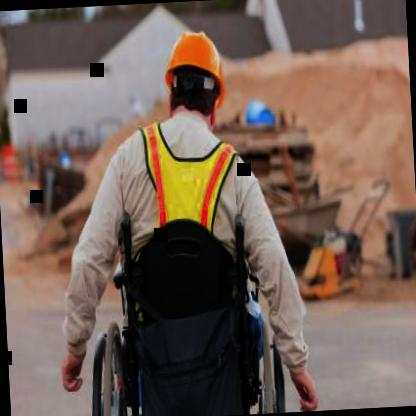helmet: (150, 13, 236, 146)
